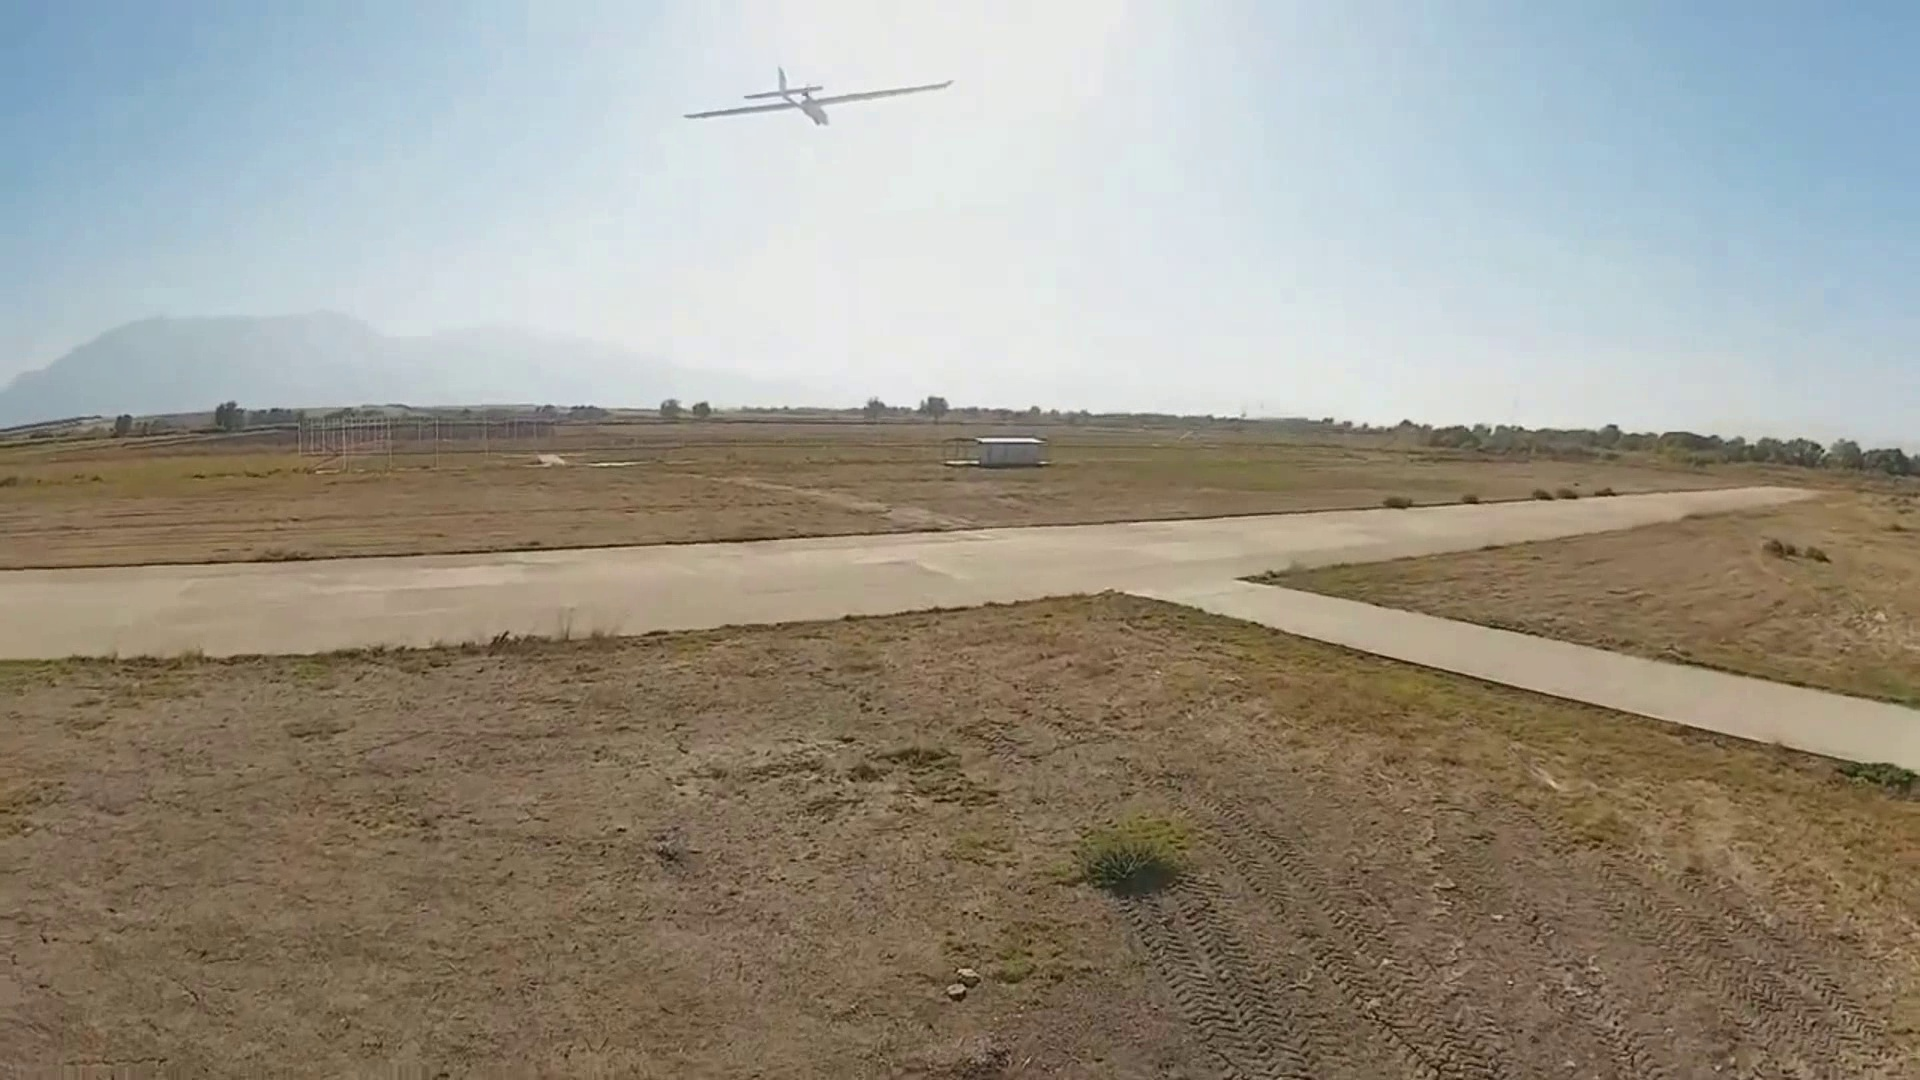airplane: (680, 67, 957, 127)
